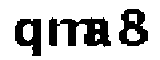8: (116, 6, 150, 49)
a: (84, 17, 112, 53)
m: (47, 16, 94, 50)
q: (12, 17, 44, 58)
